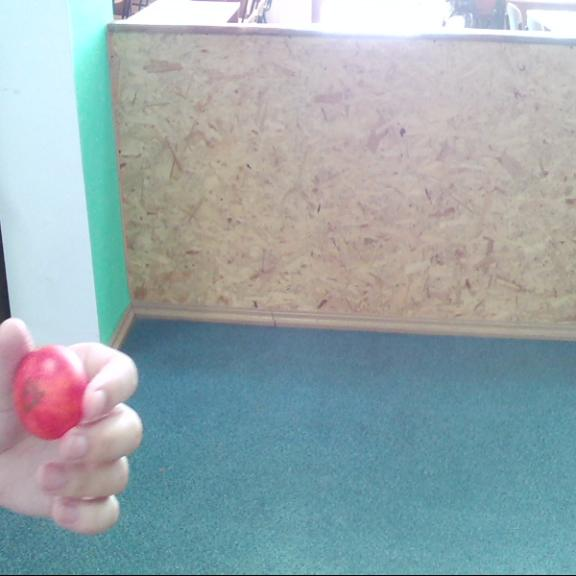ball: (11, 346, 88, 436)
